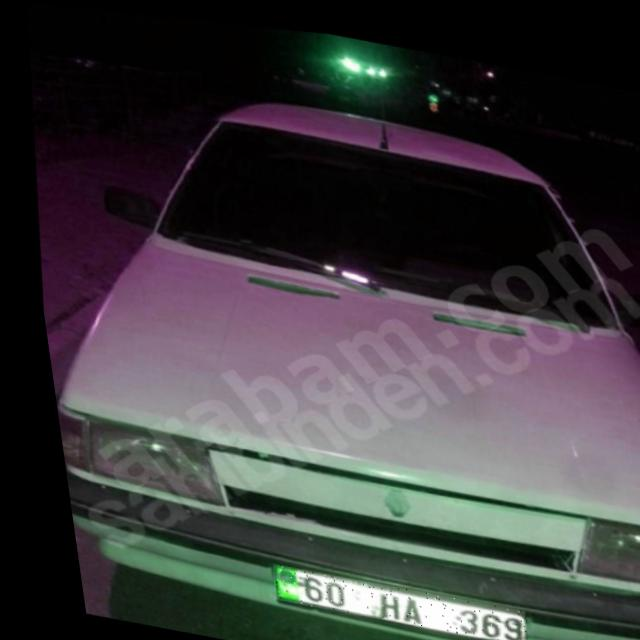license_plate: (253, 559, 512, 637)
